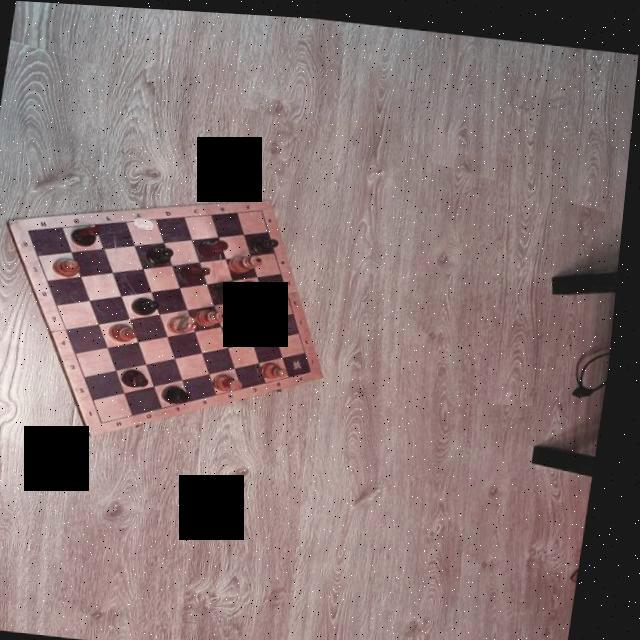chess-table-corners: (263, 204, 269, 209), (108, 418, 114, 422), (31, 228, 36, 232), (316, 366, 321, 368)
